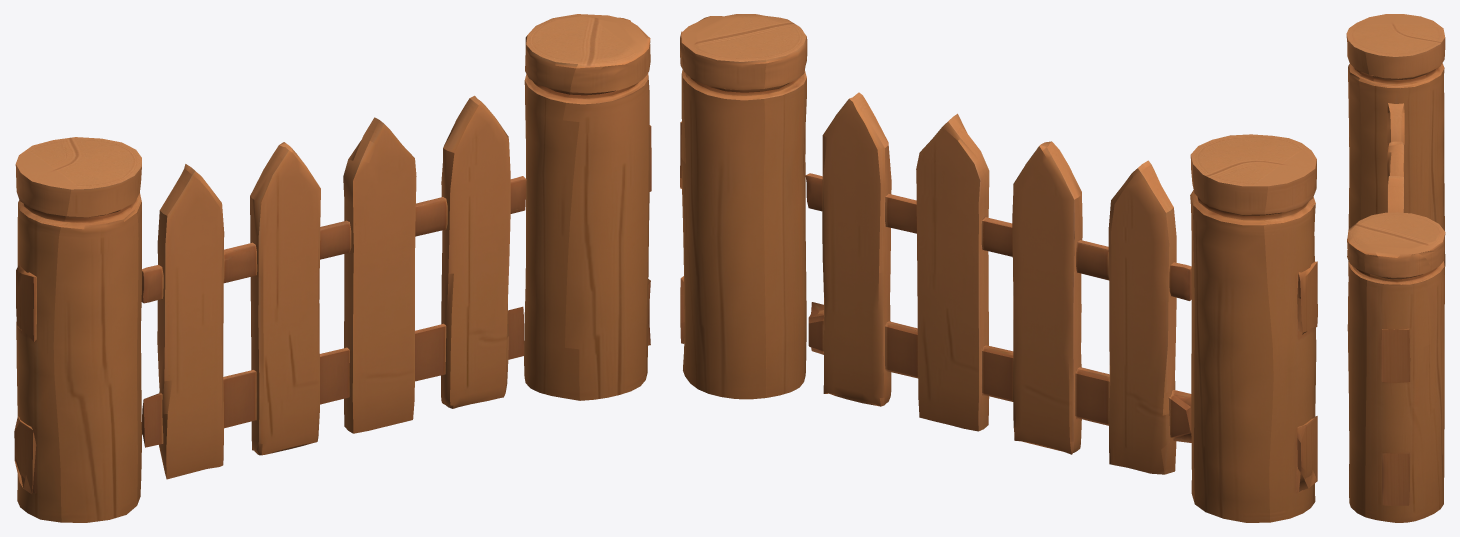
Rendered from fence_low_2.glb.
3 views of the same model, side by side, from view 1: azimuth 30°, elevation 25°; view 2: azimuth 150°, elevation 25°; view 3: azimuth 270°, elevation 25° (orthographic). The views are drawn at different scales.
Visible parts, largest first — view 1: Mesh0; view 2: Mesh0; view 3: Mesh0.
Boxes of the visible parts, <box> form: Mesh0: <box>14,14,651,522</box>; Mesh0: <box>680,14,1317,522</box>; Mesh0: <box>1346,14,1445,522</box>.
Size of the model in its own units: 0.95 by 0.4962 by 0.1649.
Materials: 1 (1 with a texture image).
